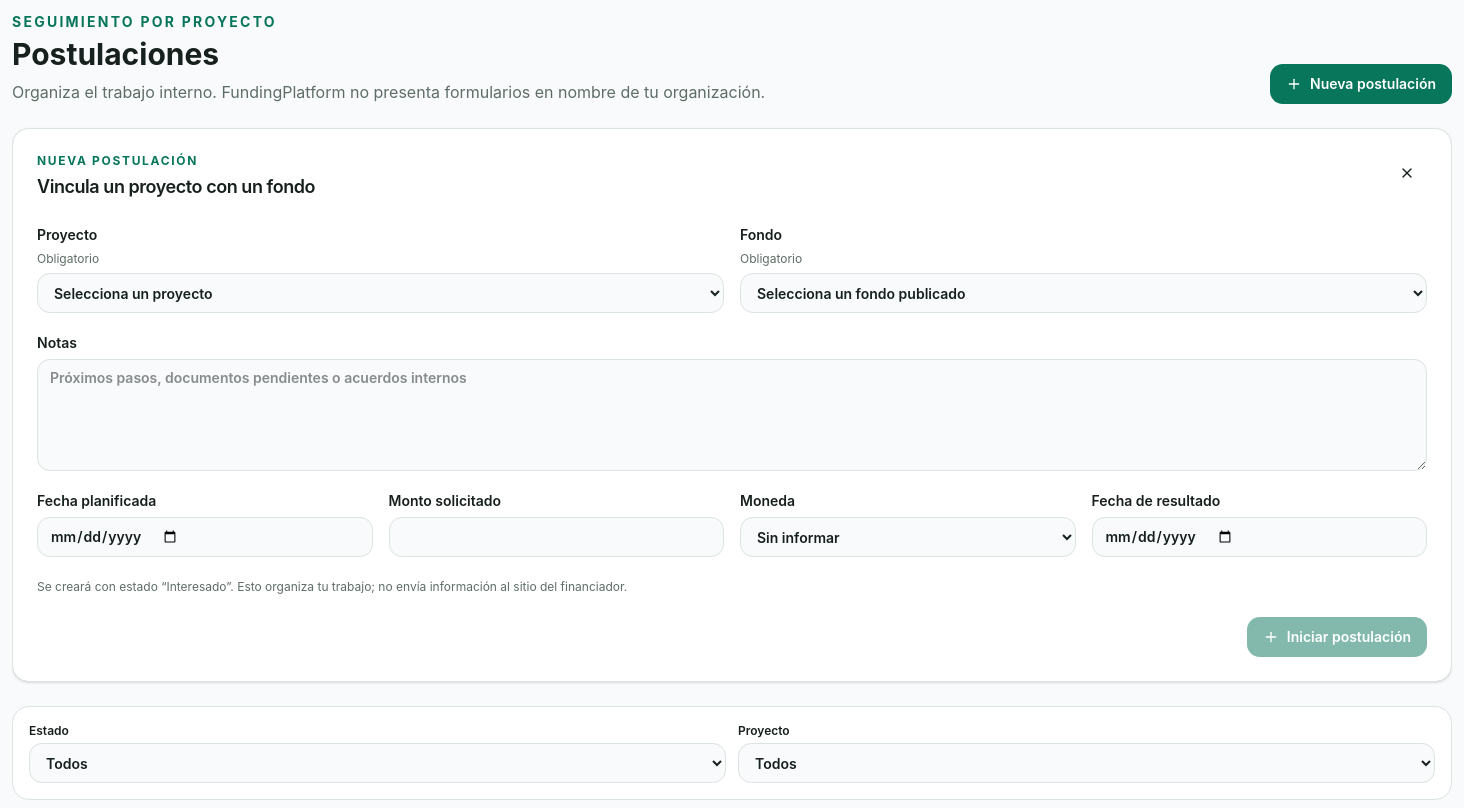
retains a new application draft and retries the same command without locale in its payload
Select "Agua segura Ñandú" in the dropdown named "Proyecto para postular" at (380, 293), box [37,273,724,313]
Select "Fondo Salud Ñandú · Financiador Ñandú" in the dropdown named "Fondo para postular" at (1084, 293), box [740,273,1427,313]
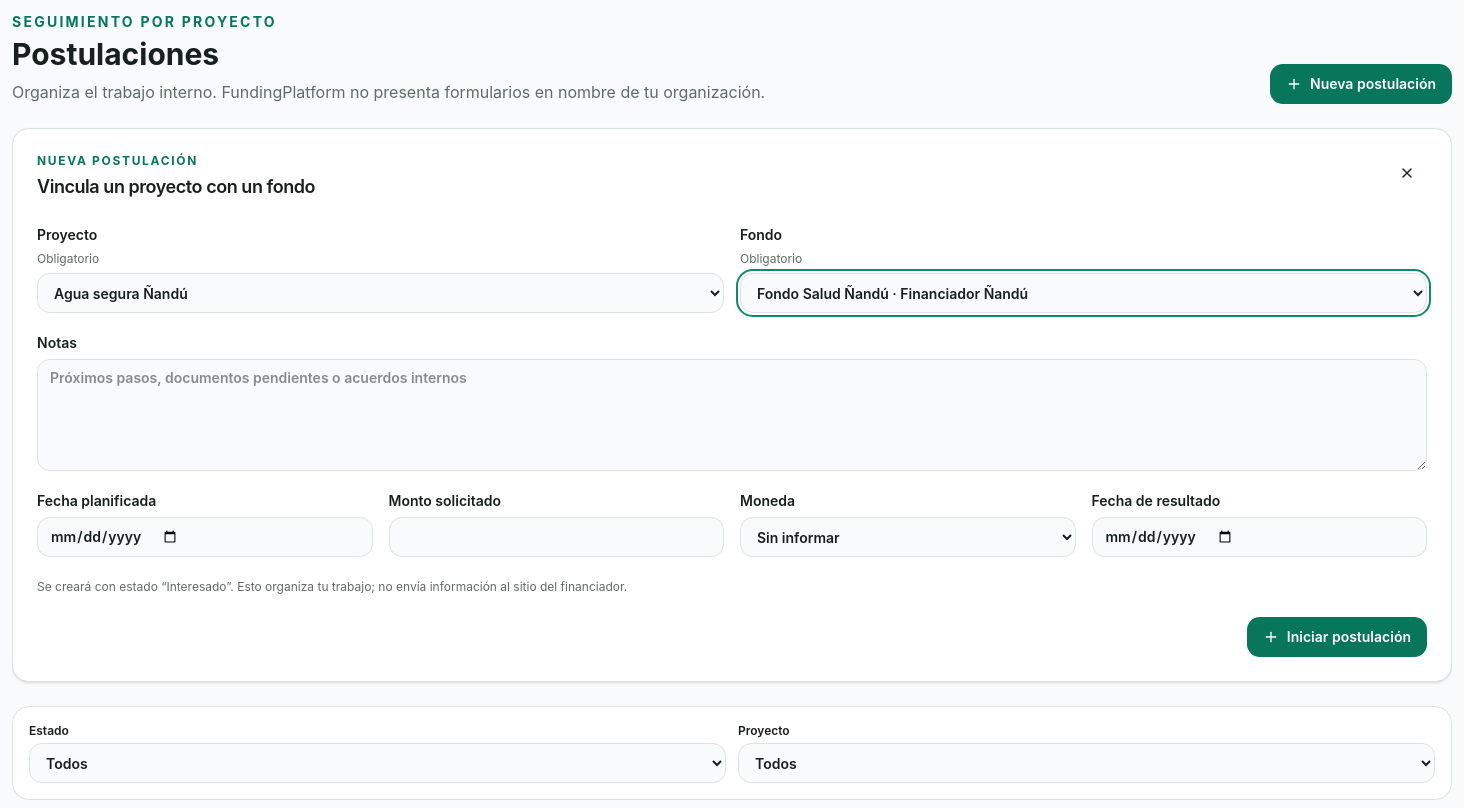
Type "Texto original" into the text box labelled "Notas" at (732, 415), box [37,359,1427,471]
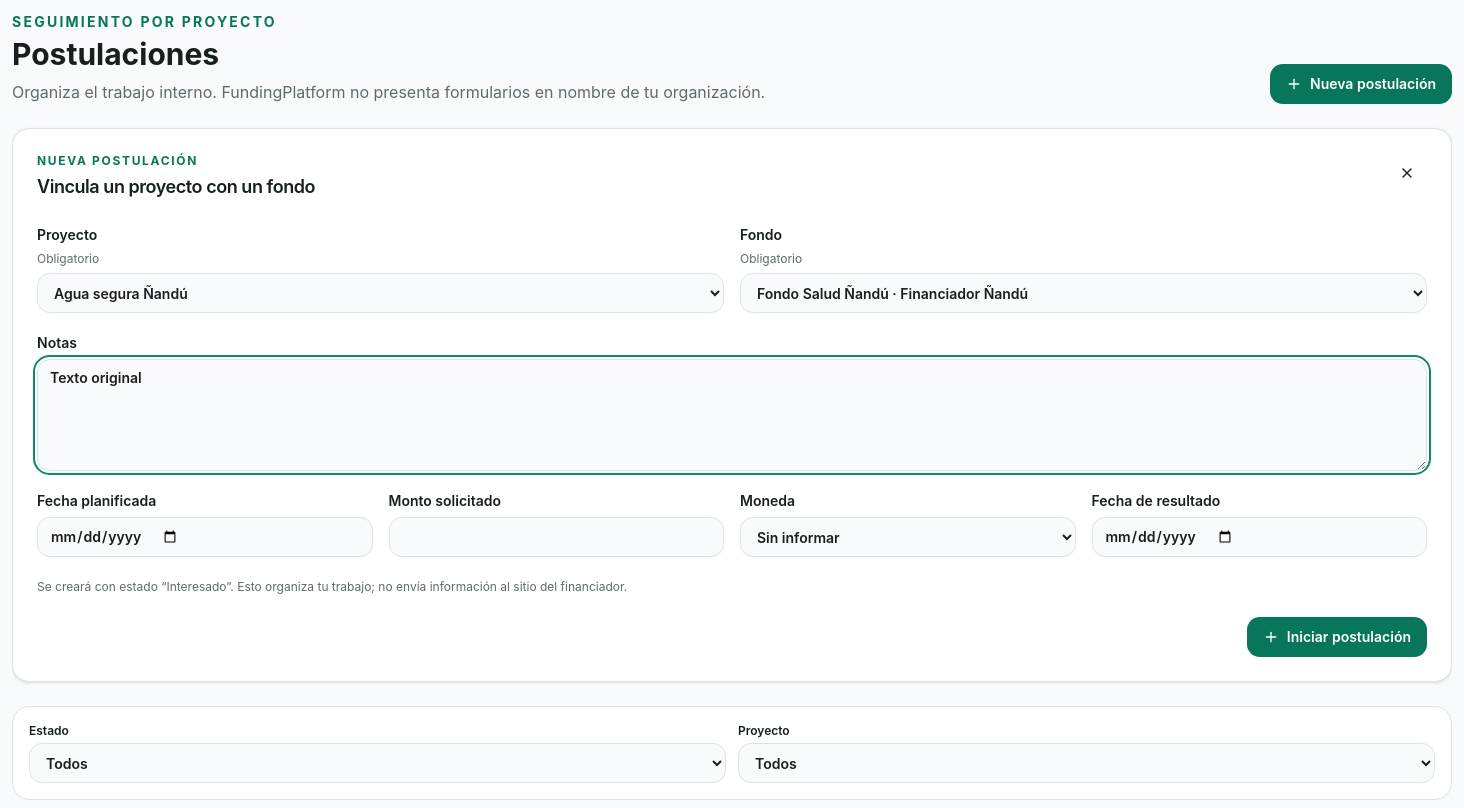
Select "USD · Dólar estadounidense" in the dropdown labelled "Moneda" at (908, 537), box [740,517,1076,557]
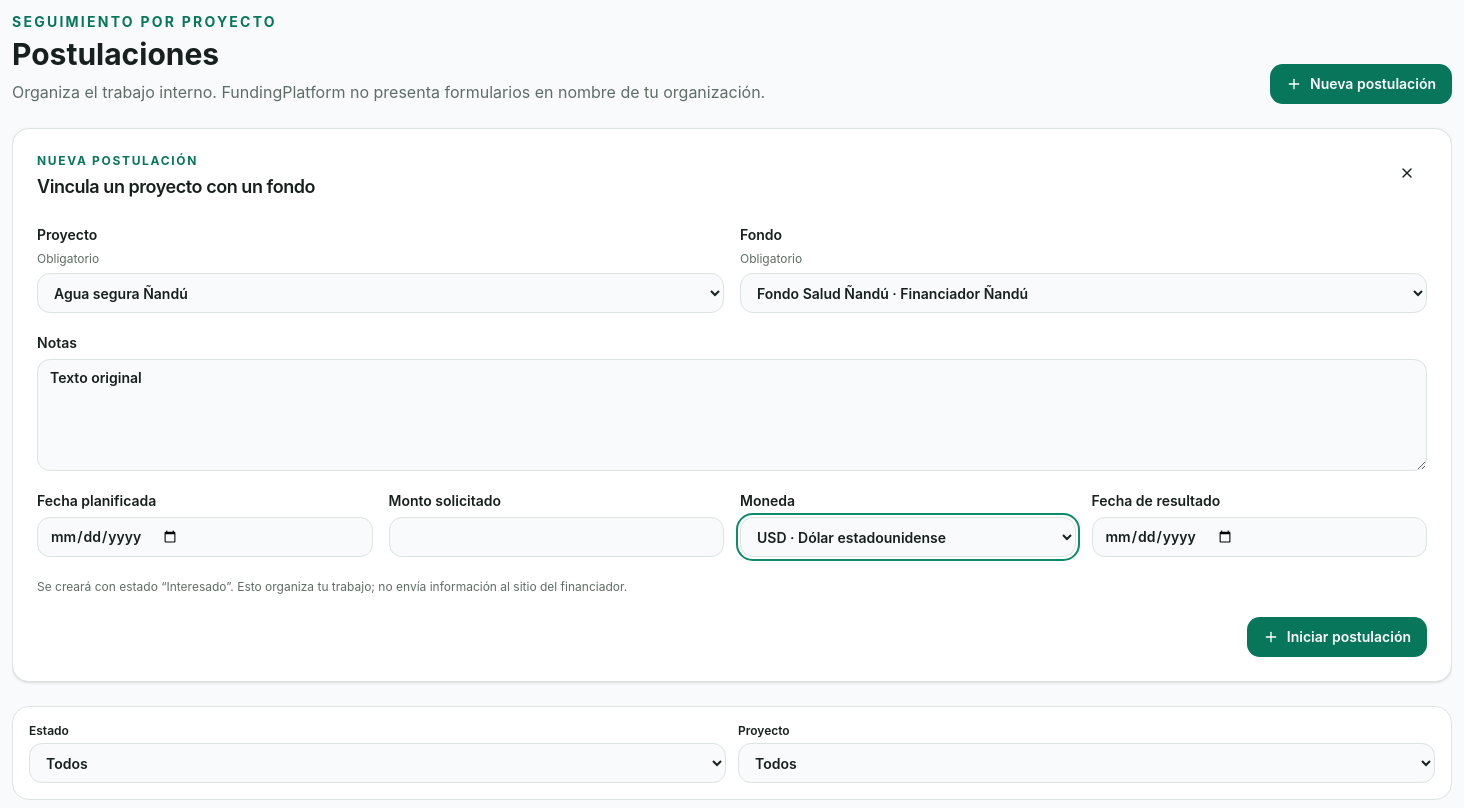
Type "25000.5" into the number field labelled "Monto solicitado" at (556, 537), box [388,517,724,557]
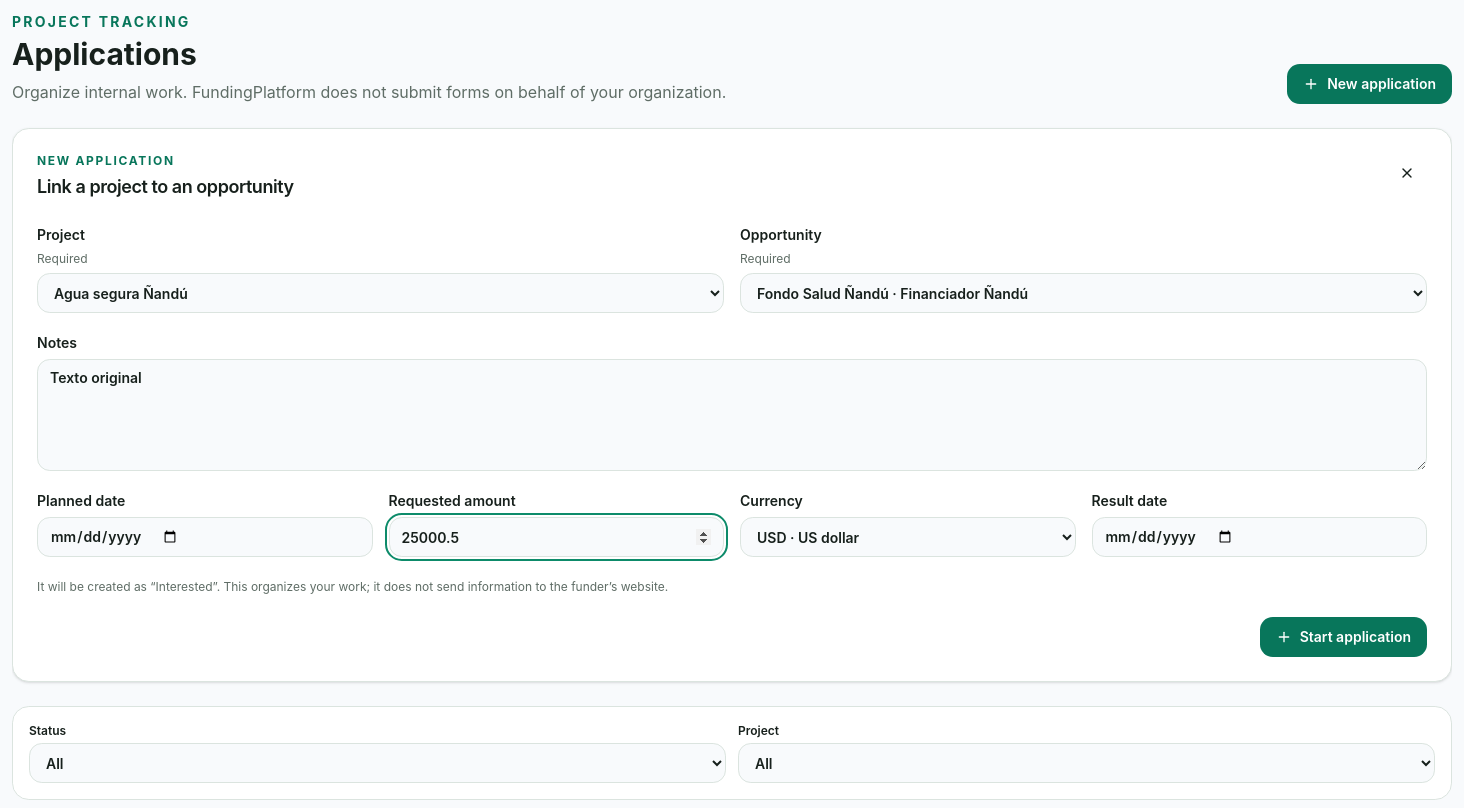
Click the button "Start application" at (1343, 637), box [1260,617,1427,657]
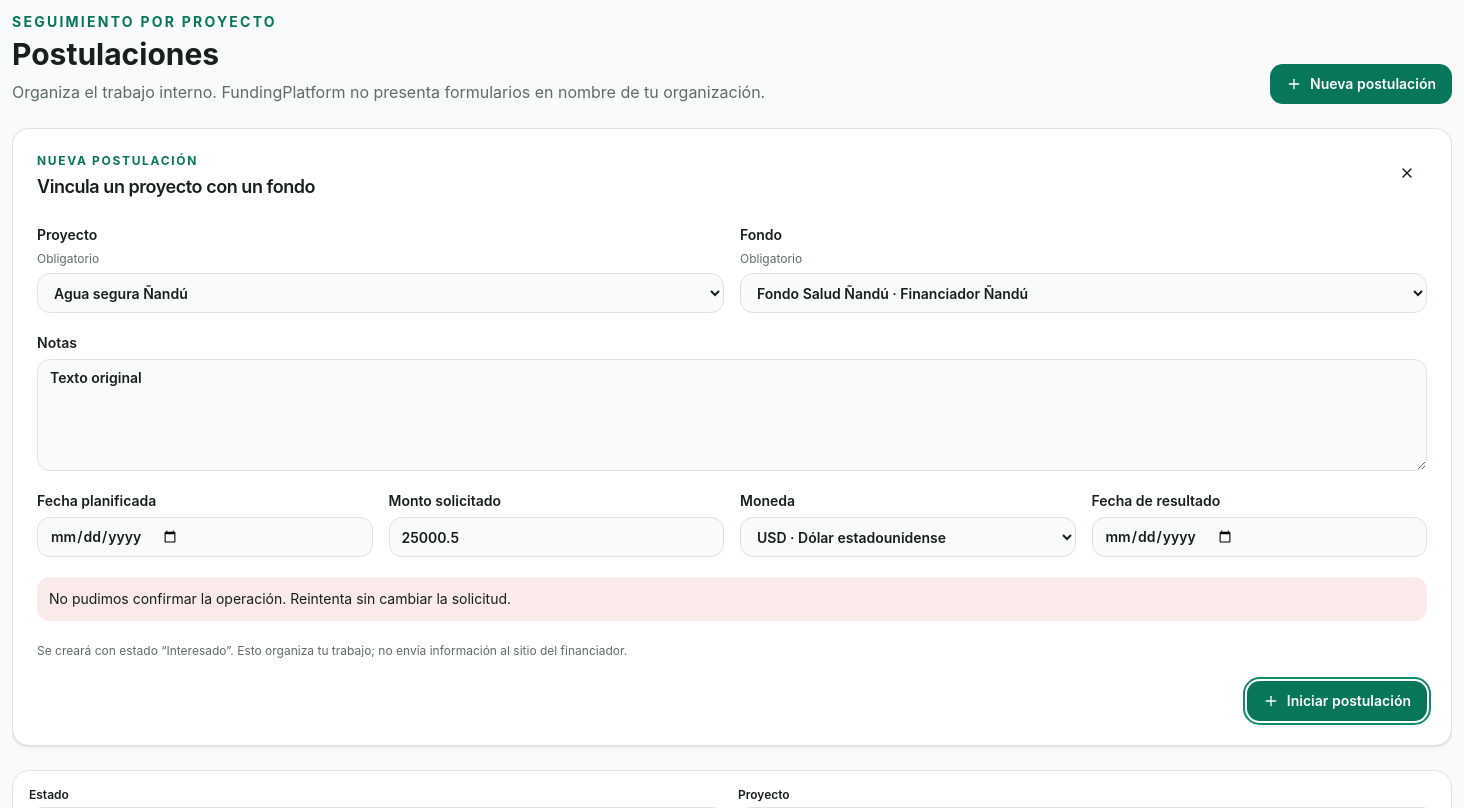
Check: the message "No pudimos confirmar la operación. Reintenta sin cambiar la solicitud." is shown, box [37,577,1427,621]
Click the button "Iniciar postulación" at (1337, 701), box [1247,681,1427,721]
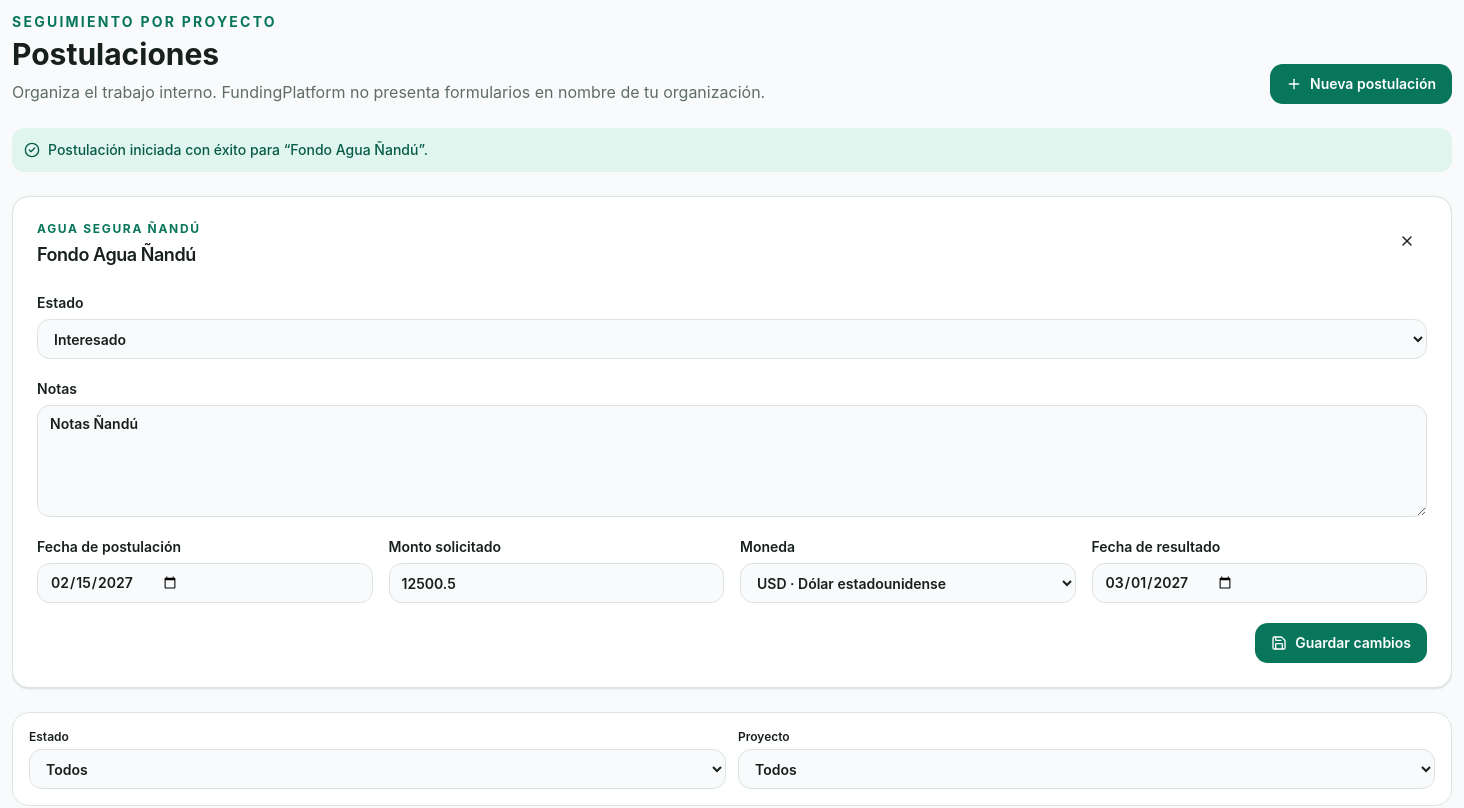
Check: the text "Postulación iniciada con éxito para “Fondo Agua Ñandú”." is shown, box [12,128,1452,172]
